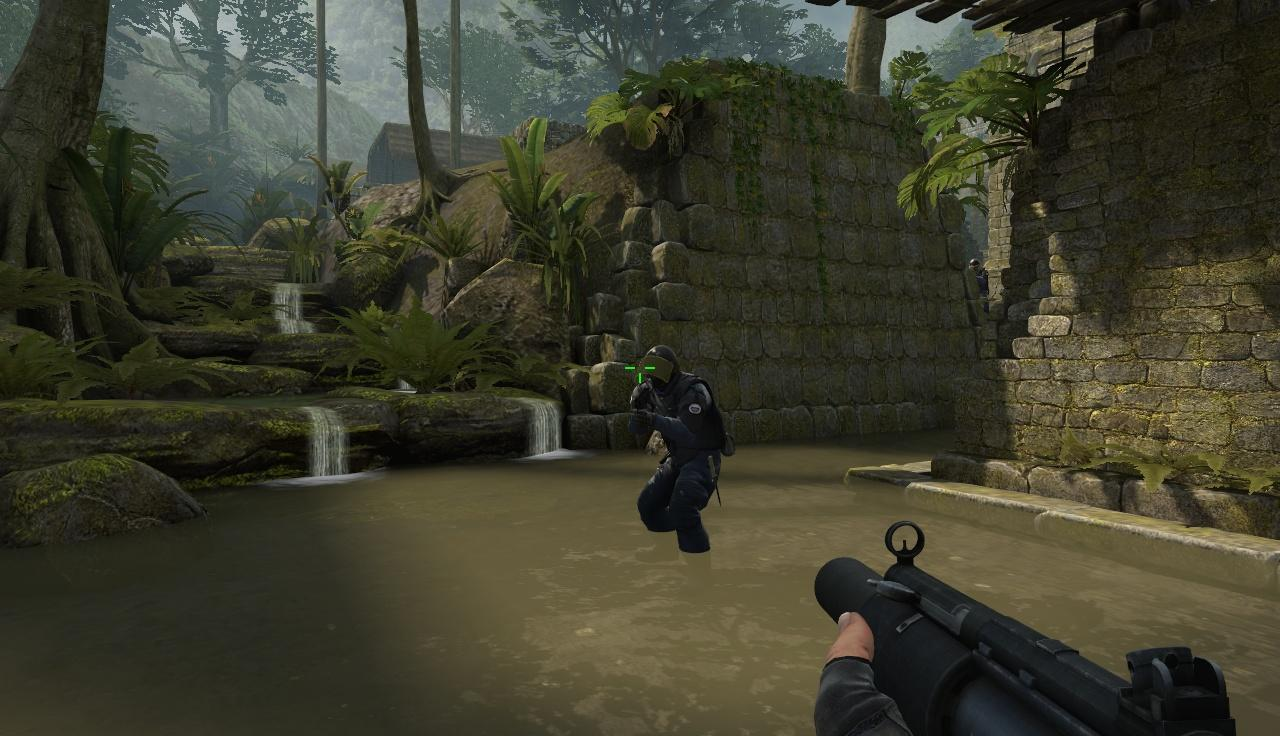ct: (634, 340, 725, 546), (974, 259, 988, 310)
cthead: (641, 345, 677, 387), (969, 258, 980, 272)
rifle: (822, 528, 1280, 736)
